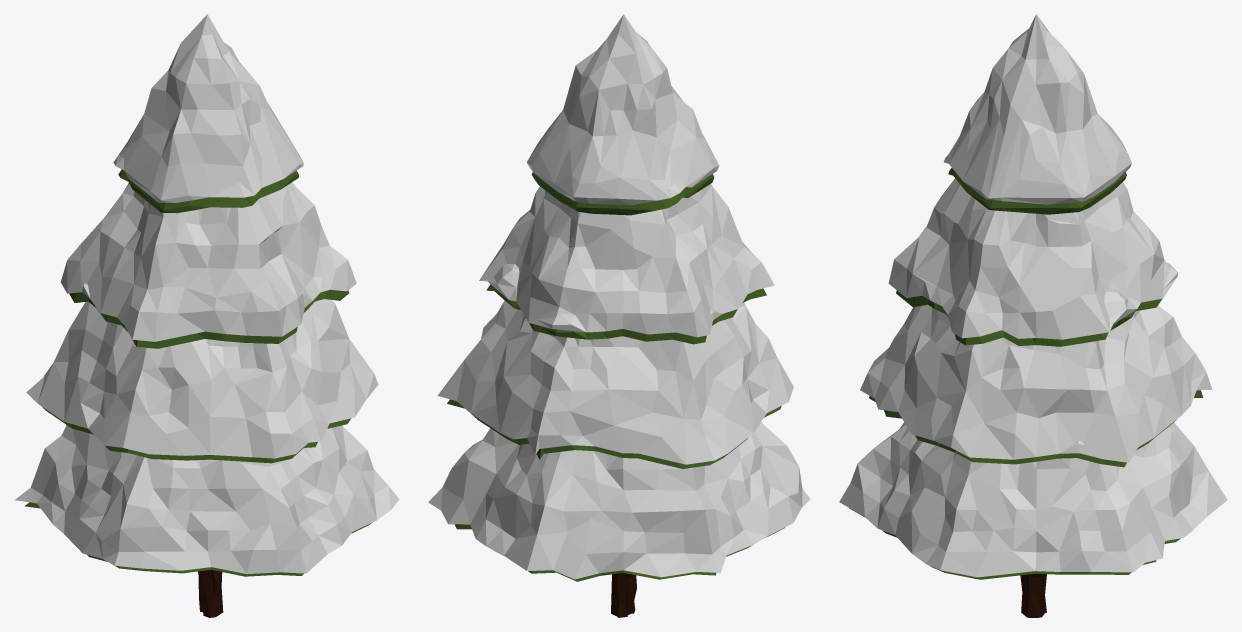
The model's file is Tree02.dae.
3 renders of one model, left to right at view 1: azimuth 30°, elevation 25°; view 2: azimuth 150°, elevation 25°; view 3: azimuth 270°, elevation 25°, orthographic.
Parts seen in each view (by area): view 1: Circle_007; view 2: Circle_007; view 3: Circle_007.
Part boxes in pixels (bbox=[...]): Circle_007: bbox=[14, 14, 399, 617]; Circle_007: bbox=[428, 14, 810, 617]; Circle_007: bbox=[839, 14, 1227, 617].
Size of the model in its own units: 1.8 by 2.04 by 3.46.
